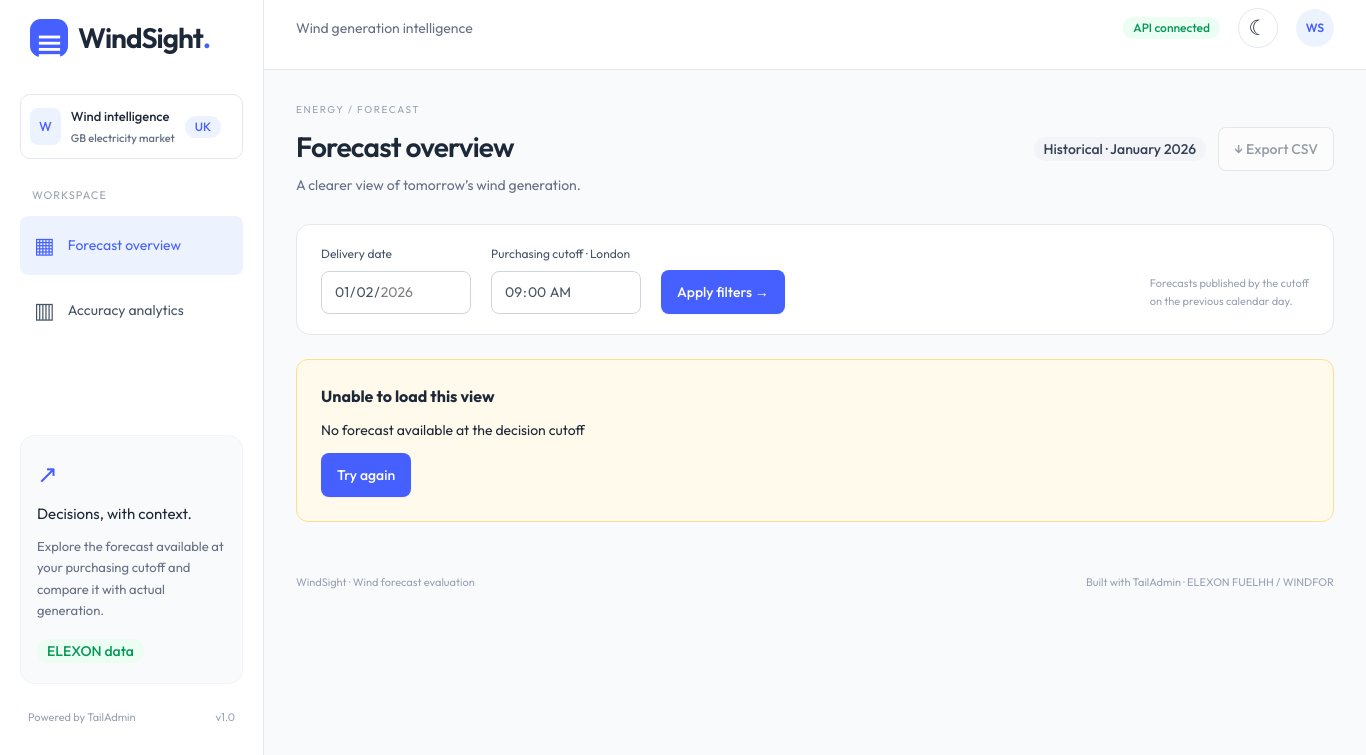
Scenario: shows backend errors and recovers on retry
Expected: the message is shown, [296,359,1334,522]
Expected: the text "No forecast available at the decision cutoff" is shown, [321,421,585,439]
Click the button "Try again".
click(366, 475)  # box [321,453,411,497]
(page scrolled)
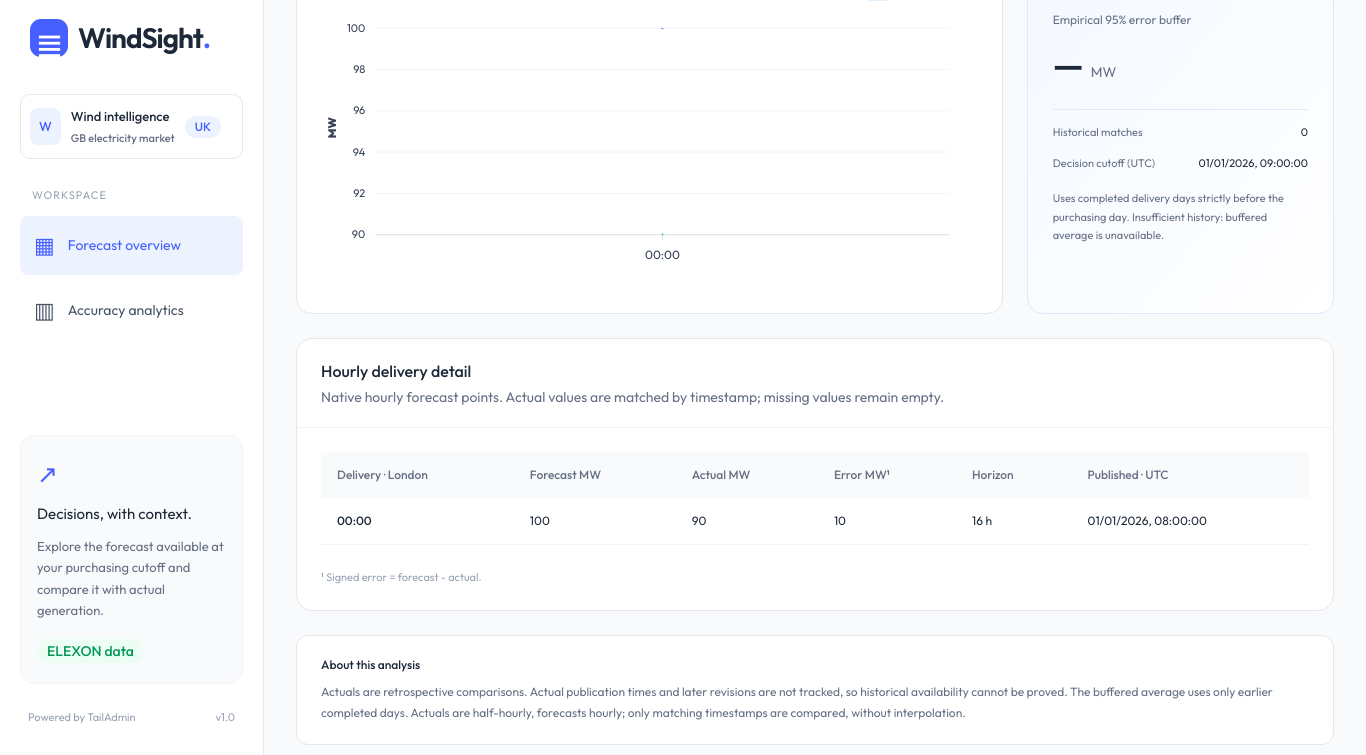
Now the heading "Hourly delivery detail" is shown, box [321,361,471,381]
